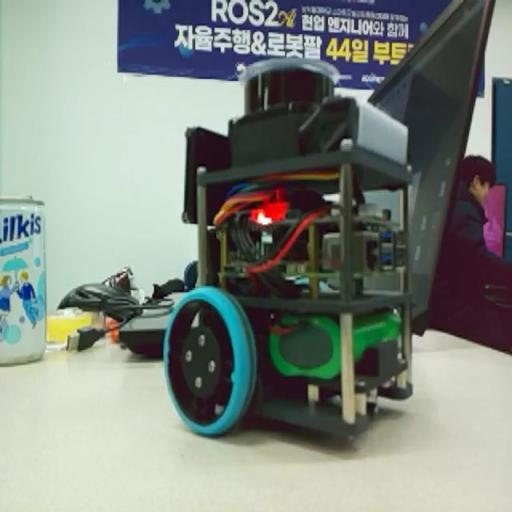pinky_63: (163, 49, 415, 446)
